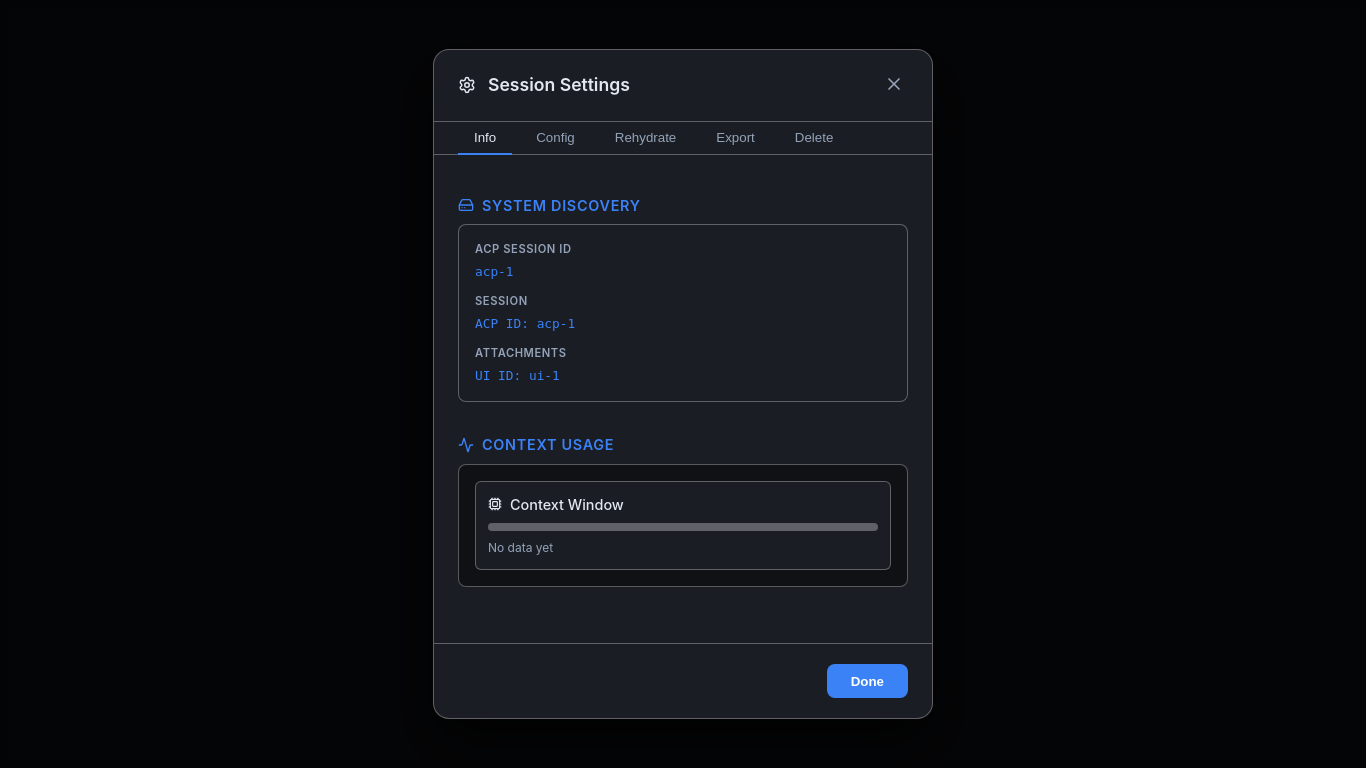
Test case: SessionSettingsModal › switches to export tab
Click the button "Export" at (736, 138), box 700,122 -> 771,154
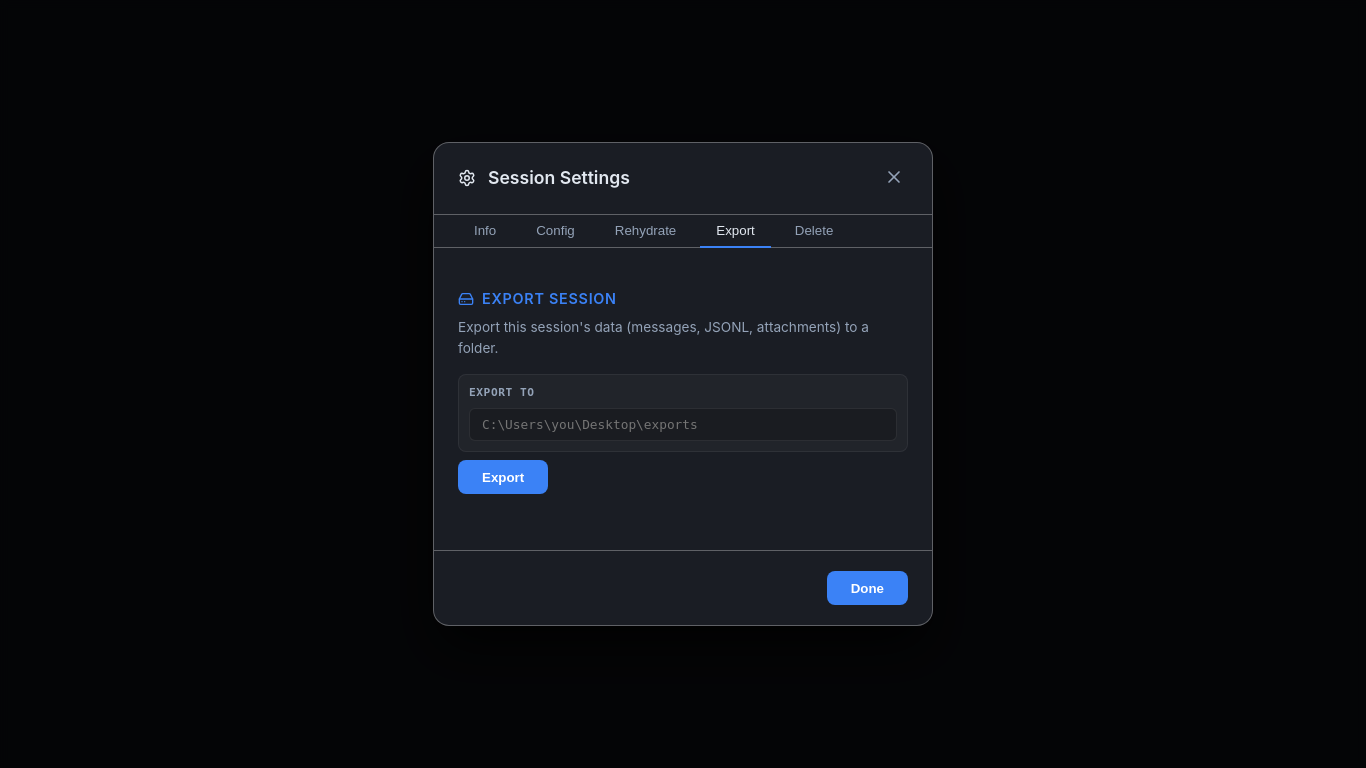
Expected: the heading "Export Session" is shown, 482,288 -> 617,309
Expected: the field with placeholder "C:\\Users\\you\\Desktop\\exports" is shown, 469,408 -> 897,441
